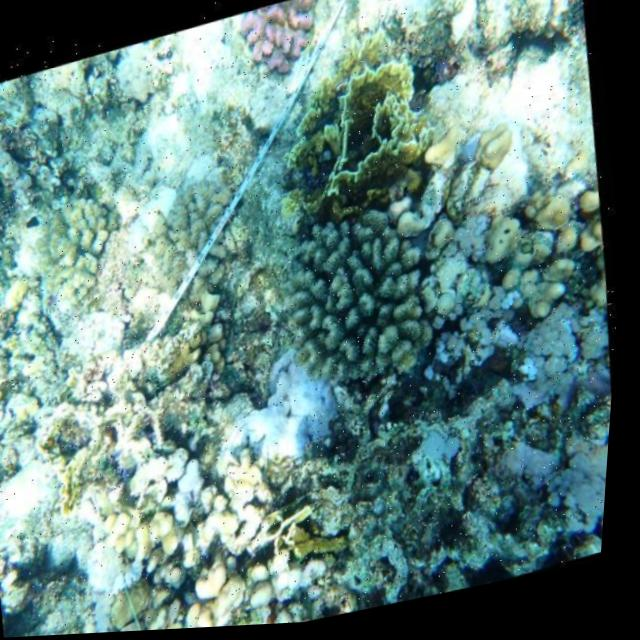Bleached Coral: (221, 328, 380, 495), (501, 299, 623, 441)
Healthy Coral: (285, 187, 451, 389), (235, 0, 332, 92)
